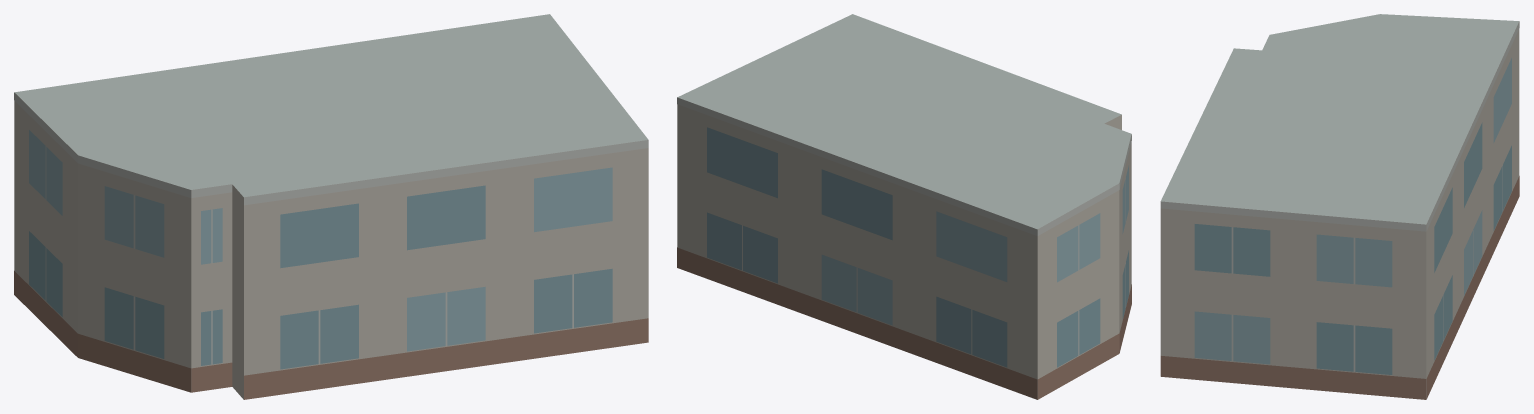
Rendered from survey-upis-32602533.glb.
3 renders of one model, left to right at view 1: azimuth 30°, elevation 25°; view 2: azimuth 150°, elevation 25°; view 3: azimuth 270°, elevation 25°, orthographic. The views are drawn at different scales.
Parts seen in each view (by area): view 1: survey-upis-32602533.tmp; view 2: survey-upis-32602533.tmp; view 3: survey-upis-32602533.tmp.
Part boxes in pixels (x1,y1,x2,y2): survey-upis-32602533.tmp: (14, 14, 648, 399); survey-upis-32602533.tmp: (677, 14, 1131, 399); survey-upis-32602533.tmp: (1160, 14, 1519, 399).
Bounding box in the file's own units: 15.73 × 6.1 × 11.33.
